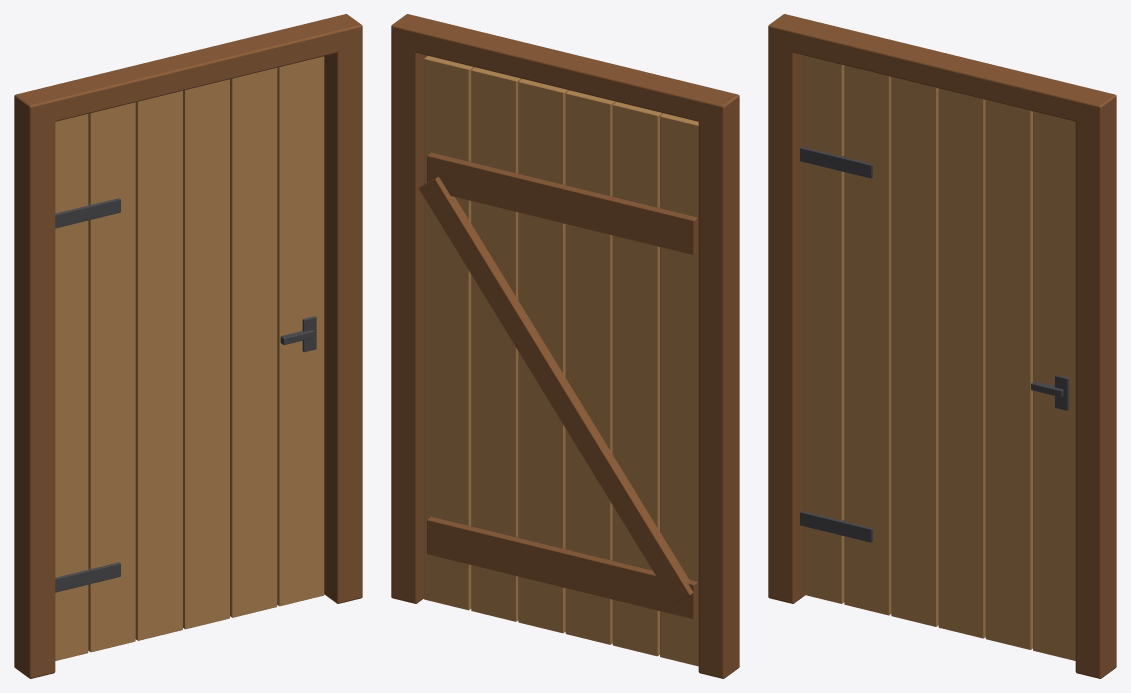
Rendered from cabin-door.glb.
3 renders of one model, left to right at view 1: azimuth 30°, elevation 25°; view 2: azimuth 150°, elevation 25°; view 3: azimuth 330°, elevation 25°, orthographic.
Parts seen in each view (by area): view 1: leaf.board.3, leaf.board.5, leaf.board.4, leaf.board.6, leaf.board.2, jamb.left, jamb.right, leaf.board.1, jamb.head, leaf.strap.1, leaf.strap.2; view 2: jamb.left, leaf.board.6, leaf.board.2, leaf.board.3, leaf.board.4, leaf.board.5, jamb.right, leaf.board.1, leaf.brace, jamb.head, leaf.ledger.high, leaf.ledger.low; view 3: leaf.board.4, leaf.board.3, leaf.board.5, leaf.board.2, jamb.right, leaf.board.6, leaf.board.1, jamb.left, jamb.head, leaf.strap.1, leaf.strap.2.
Part boxes in pixels (box(x1,y1,x2,y2)): leaf.board.3: box(135, 90, 182, 640); leaf.board.5: box(230, 68, 277, 617); leaf.board.4: box(183, 79, 229, 629); leaf.board.6: box(277, 56, 324, 606); leaf.board.2: box(88, 102, 135, 652); jamb.left: box(14, 90, 55, 678); jamb.right: box(324, 25, 362, 603); leaf.board.1: box(55, 114, 88, 660); jamb.head: box(14, 14, 362, 126); leaf.strap.1: box(55, 562, 120, 592); leaf.strap.2: box(55, 198, 120, 228); jamb.left: box(698, 93, 739, 678); leaf.board.6: box(424, 56, 474, 610); leaf.board.2: box(612, 102, 663, 656); leaf.board.3: box(565, 90, 616, 644); leaf.board.4: box(518, 79, 568, 633); leaf.board.5: box(471, 67, 521, 621); jamb.right: box(391, 25, 427, 603); leaf.board.1: box(660, 113, 698, 666); leaf.brace: box(418, 177, 693, 604); jamb.head: box(391, 14, 739, 126); leaf.ledger.high: box(427, 152, 697, 255); leaf.ledger.low: box(427, 517, 697, 619); leaf.board.4: box(938, 88, 985, 638); leaf.board.3: box(891, 77, 938, 626); leaf.board.5: box(985, 100, 1032, 649); leaf.board.2: box(844, 65, 891, 615); jamb.right: box(1075, 92, 1116, 678); leaf.board.6: box(1033, 111, 1075, 660); leaf.board.1: box(801, 55, 844, 603); jamb.left: box(768, 25, 804, 603); jamb.head: box(768, 14, 1116, 126); leaf.strap.1: box(800, 511, 872, 542); leaf.strap.2: box(800, 147, 872, 178).
Size of the model in its own units: 1.4 by 2.3 by 0.1575.
